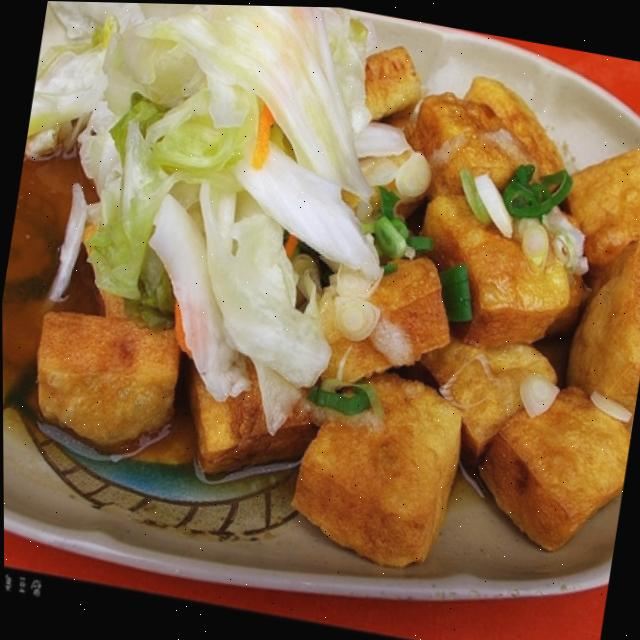豆腐料理: (0, 0, 640, 627)
